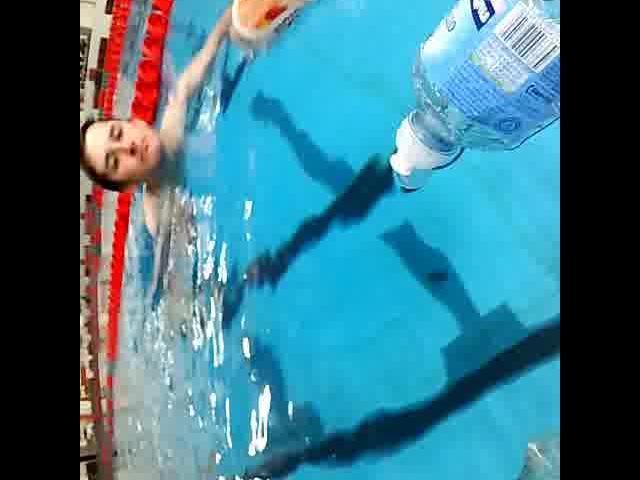Bottle: (384, 0, 560, 188), (225, 0, 339, 55), (476, 428, 560, 480)
